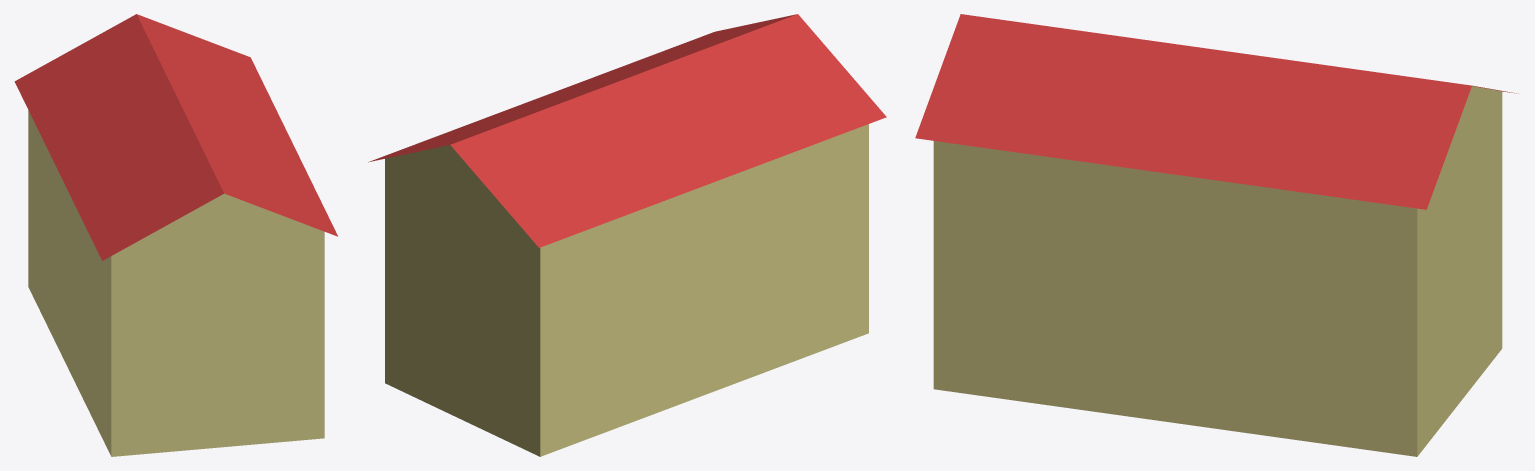
3 renders of one model, left to right at view 1: azimuth 30°, elevation 25°; view 2: azimuth 150°, elevation 25°; view 3: azimuth 270°, elevation 25°, orthographic. The views are drawn at different scales.
Size of the model in its own units: 15.47 by 20.65 by 12.08.
